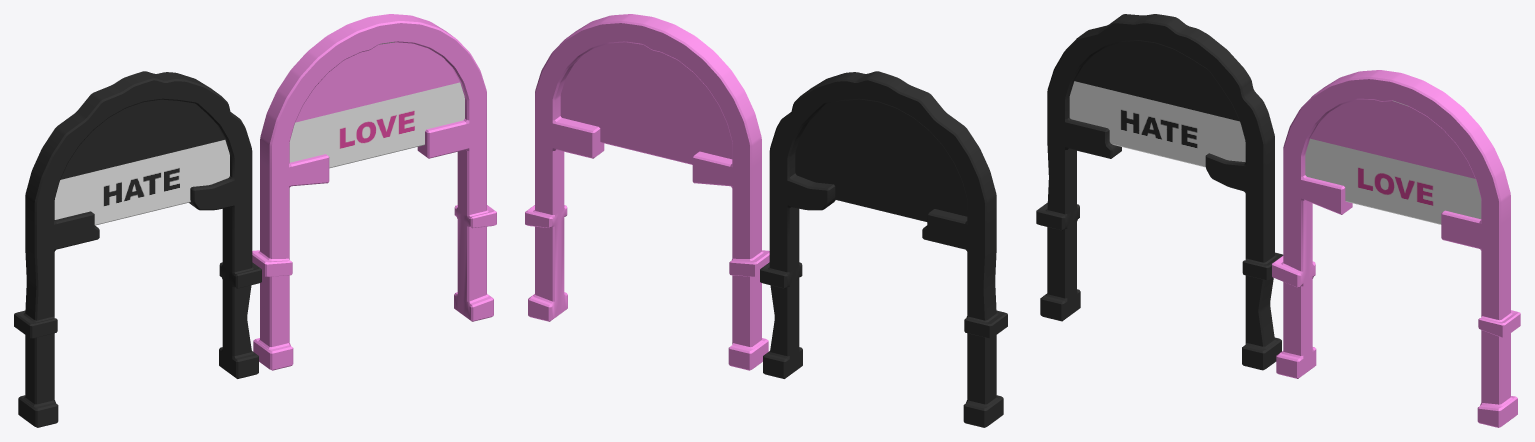
The model's file is RunnerDoor.fbx.
3 renders of one model, left to right at view 1: azimuth 30°, elevation 25°; view 2: azimuth 150°, elevation 25°; view 3: azimuth 330°, elevation 25°, orthographic.
Parts seen in each view (by area): view 1: Door-Love, Door-Hate; view 2: Door-Love, Door-Hate; view 3: Door-Love, Door-Hate.
Part boxes in pixels (x1=…): Door-Love: x1=252, y1=14, x2=496, y2=370; Door-Hate: x1=14, y1=71, x2=261, y2=427; Door-Love: x1=525, y1=14, x2=769, y2=370; Door-Hate: x1=760, y1=71, x2=1007, y2=427; Door-Love: x1=1272, y1=70, x2=1520, y2=427; Door-Hate: x1=1036, y1=14, x2=1283, y2=370.
Bounding box in the file's own units: 333 × 217 × 22.95.
Materials: 1 (1 with a texture image).
